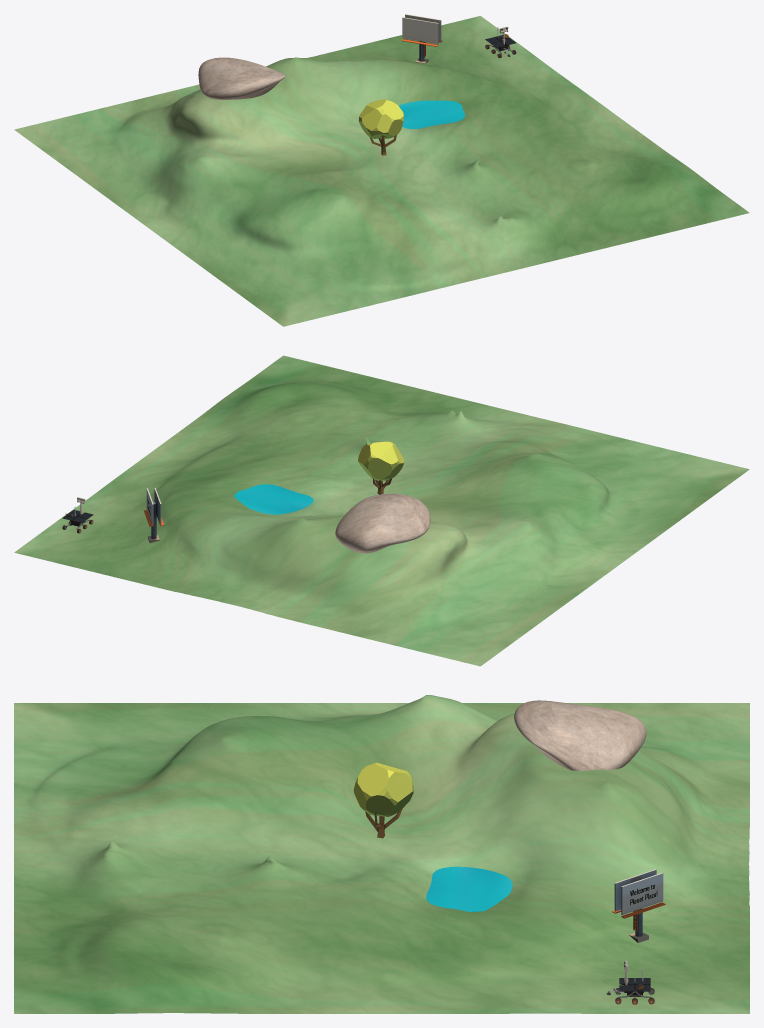
The model's file is landscape.glb.
3 renders of one model, top to bottom at view 1: azimuth 30°, elevation 25°; view 2: azimuth 150°, elevation 25°; view 3: azimuth 270°, elevation 25°, orthographic. The views are drawn at different scales.
Visible parts, largest first — view 1: Plane, Cube, bush, Cylinder, billboard; view 2: Plane, Cube, Cylinder, bush, billboard; view 3: Plane, Cube, Cylinder, bush, billboard, SpaceRover.
Part boxes in pixels (left/top/right/bottom): Plane: left=14, top=16, right=749, bottom=326; Cube: left=198, top=57, right=285, bottom=99; bush: left=358, top=99, right=403, bottom=155; Cylinder: left=399, top=100, right=464, bottom=129; billboard: left=401, top=14, right=442, bottom=63; Plane: left=14, top=355, right=749, bottom=666; Cube: left=335, top=493, right=430, bottom=553; Cylinder: left=234, top=484, right=313, bottom=514; bush: left=358, top=441, right=404, bottom=494; billboard: left=143, top=488, right=164, bottom=543; Plane: left=14, top=695, right=749, bottom=1013; Cube: left=514, top=700, right=646, bottom=770; Cylinder: left=426, top=866, right=512, bottom=911; bush: left=353, top=762, right=413, bottom=838; billboard: left=612, top=869, right=665, bottom=942; SpaceRover: left=606, top=960, right=654, bottom=1004.
Size of what is drawn, in the model's own units: 64.01 by 9.54 by 64.01.
Materials: 7 (6 with a texture image).
